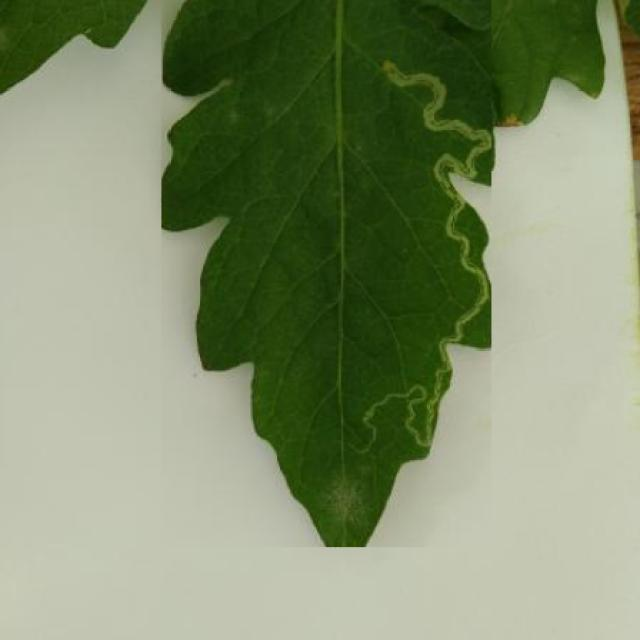Leaf Miner: (162, 0, 492, 547)
